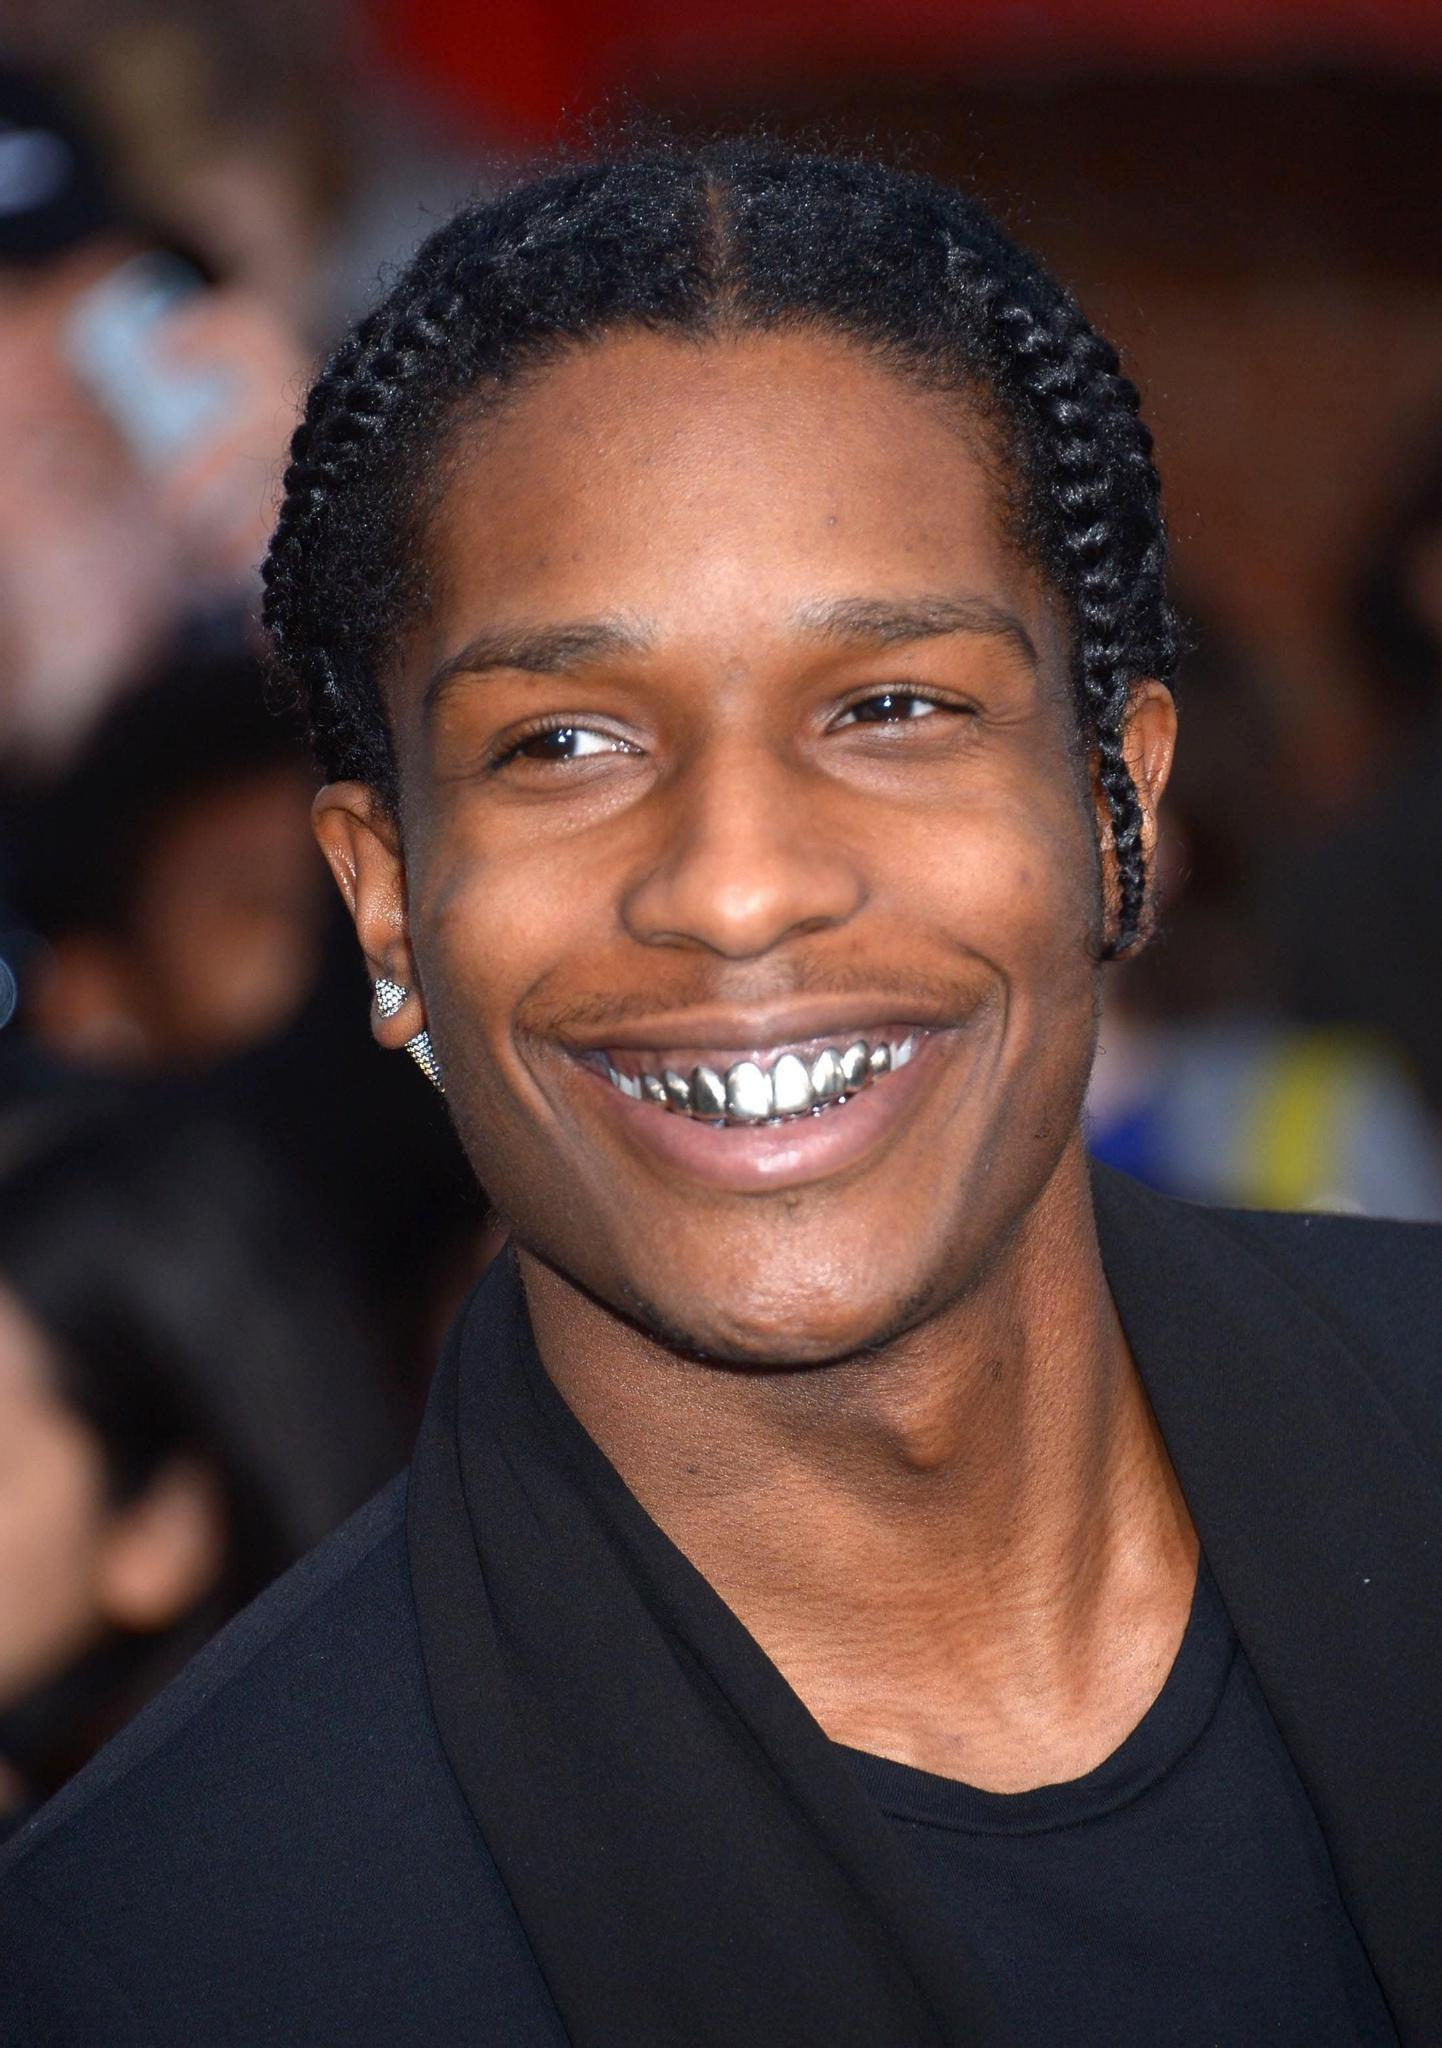Sober: (412, 401, 1066, 1310)
